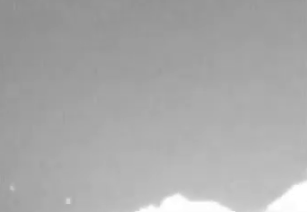Target: (11, 186, 70, 203)
